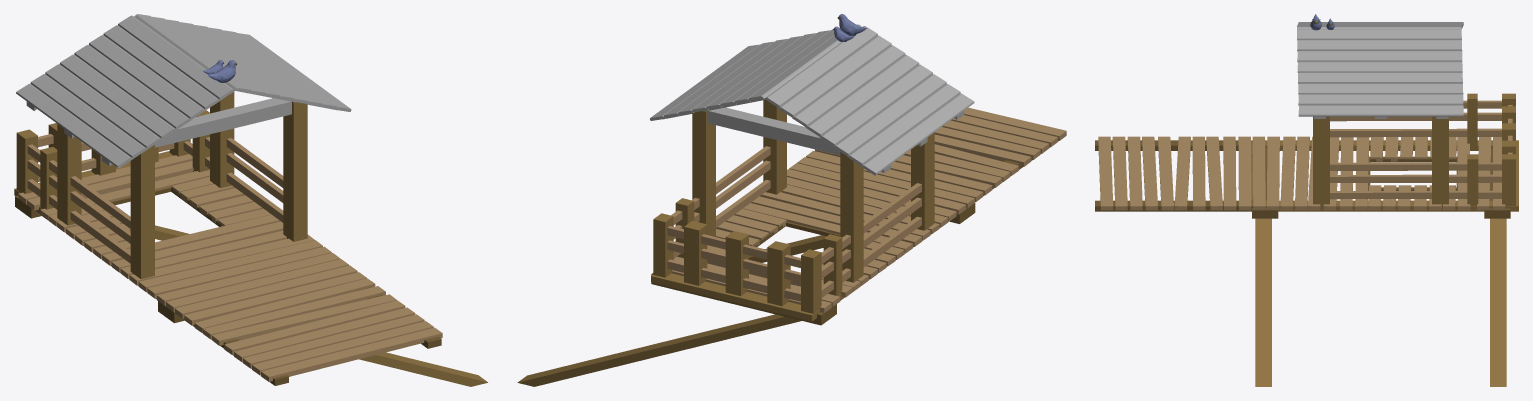
File: cliftower.fbx
3 views of the same model, side by side, from view 1: azimuth 30°, elevation 25°; view 2: azimuth 150°, elevation 25°; view 3: azimuth 270°, elevation 25° (orthographic). The views are drawn at different scales.
Parts seen in each view (by area): view 1: base, roofsupporter3, base_board21, rooflet9, rooflet10, rooflet8, rooflet12, rooflet14, rooflet11, rooflet13, rooflet15, base_board16 (+40 smaller); view 2: base, pCube68, roofsupporter2, rooflet9, rooflet12, rooflet13, rooflet8, rooflet10, rooflet14, rooflet11, rooflet15, base_board11 (+40 smaller); view 3: base, pCube68, pCube70, rooflet1, rooflet, rooflet4, rooflet2, rooflet3, rooflet5, rooflet6, rooflet7, fencling11 (+33 smaller).
Boxes of the visible parts, x1,y1,x2,y2 form: base: [14, 92, 307, 299]; roofsupporter3: [155, 98, 291, 147]; base_board21: [261, 327, 442, 381]; rooflet9: [30, 74, 147, 158]; rooflet10: [45, 64, 162, 148]; rooflet8: [16, 83, 132, 168]; rooflet12: [74, 44, 191, 129]; rooflet14: [103, 25, 220, 109]; rooflet11: [60, 54, 176, 139]; rooflet13: [89, 35, 205, 119]; rooflet15: [118, 15, 234, 100]; base_board16: [212, 294, 396, 345]; base: [651, 100, 934, 321]; pCube68: [517, 314, 801, 386]; roofsupporter2: [707, 107, 840, 155]; rooflet9: [847, 84, 960, 165]; rooflet12: [806, 55, 919, 136]; rooflet13: [792, 45, 905, 127]; rooflet8: [861, 93, 974, 175]; rooflet10: [833, 74, 946, 156]; rooflet14: [778, 35, 891, 117]; rooflet11: [819, 64, 932, 146]; rooflet15: [764, 26, 877, 107]; base_board11: [797, 157, 974, 208]; base: [1245, 93, 1518, 211]; pCube68: [1490, 218, 1506, 386]; pCube70: [1255, 218, 1271, 386]; rooflet1: [1298, 94, 1463, 105]; rooflet: [1298, 105, 1463, 116]; rooflet4: [1297, 61, 1462, 72]; rooflet2: [1298, 83, 1463, 94]; rooflet3: [1298, 72, 1462, 83]; rooflet5: [1297, 51, 1462, 62]; rooflet6: [1297, 40, 1462, 51]; rooflet7: [1297, 29, 1461, 39]; fencling11: [1330, 162, 1501, 170].
Size of the model in its own units: 19.39 by 18.73 by 25.43.
